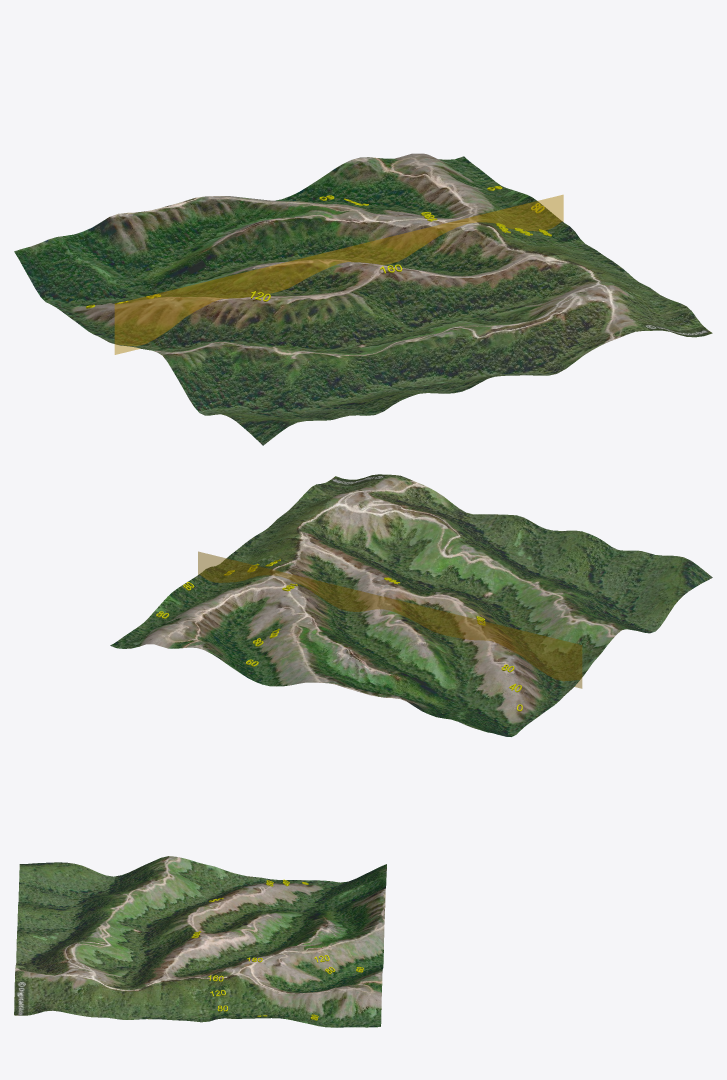
File: adrianopolis2a.glb
The picture shows the model from 3 angles, top to bottom: view 1: azimuth 30°, elevation 25°; view 2: azimuth 150°, elevation 25°; view 3: azimuth 270°, elevation 25°; orthographic projection. The views are drawn at different scales.
Visible parts, largest first — view 1: Location Terrain, root, Revestimento externo; view 2: Location Terrain, root, Revestimento externo; view 3: Location Terrain, Revestimento externo.
Part boxes in pixels (x1,y1,x2,y2): Location Terrain: [14, 153, 712, 445]; root: [114, 195, 563, 354]; Revestimento externo: [85, 186, 551, 308]; Location Terrain: [110, 474, 712, 736]; root: [198, 551, 582, 688]; Revestimento externo: [156, 559, 522, 711]; Location Terrain: [14, 856, 386, 1027]; Revestimento externo: [191, 879, 363, 1020].
Size of the model in its own units: 2706 by 235 by 3788.
Materials: 4 (1 with a texture image).
